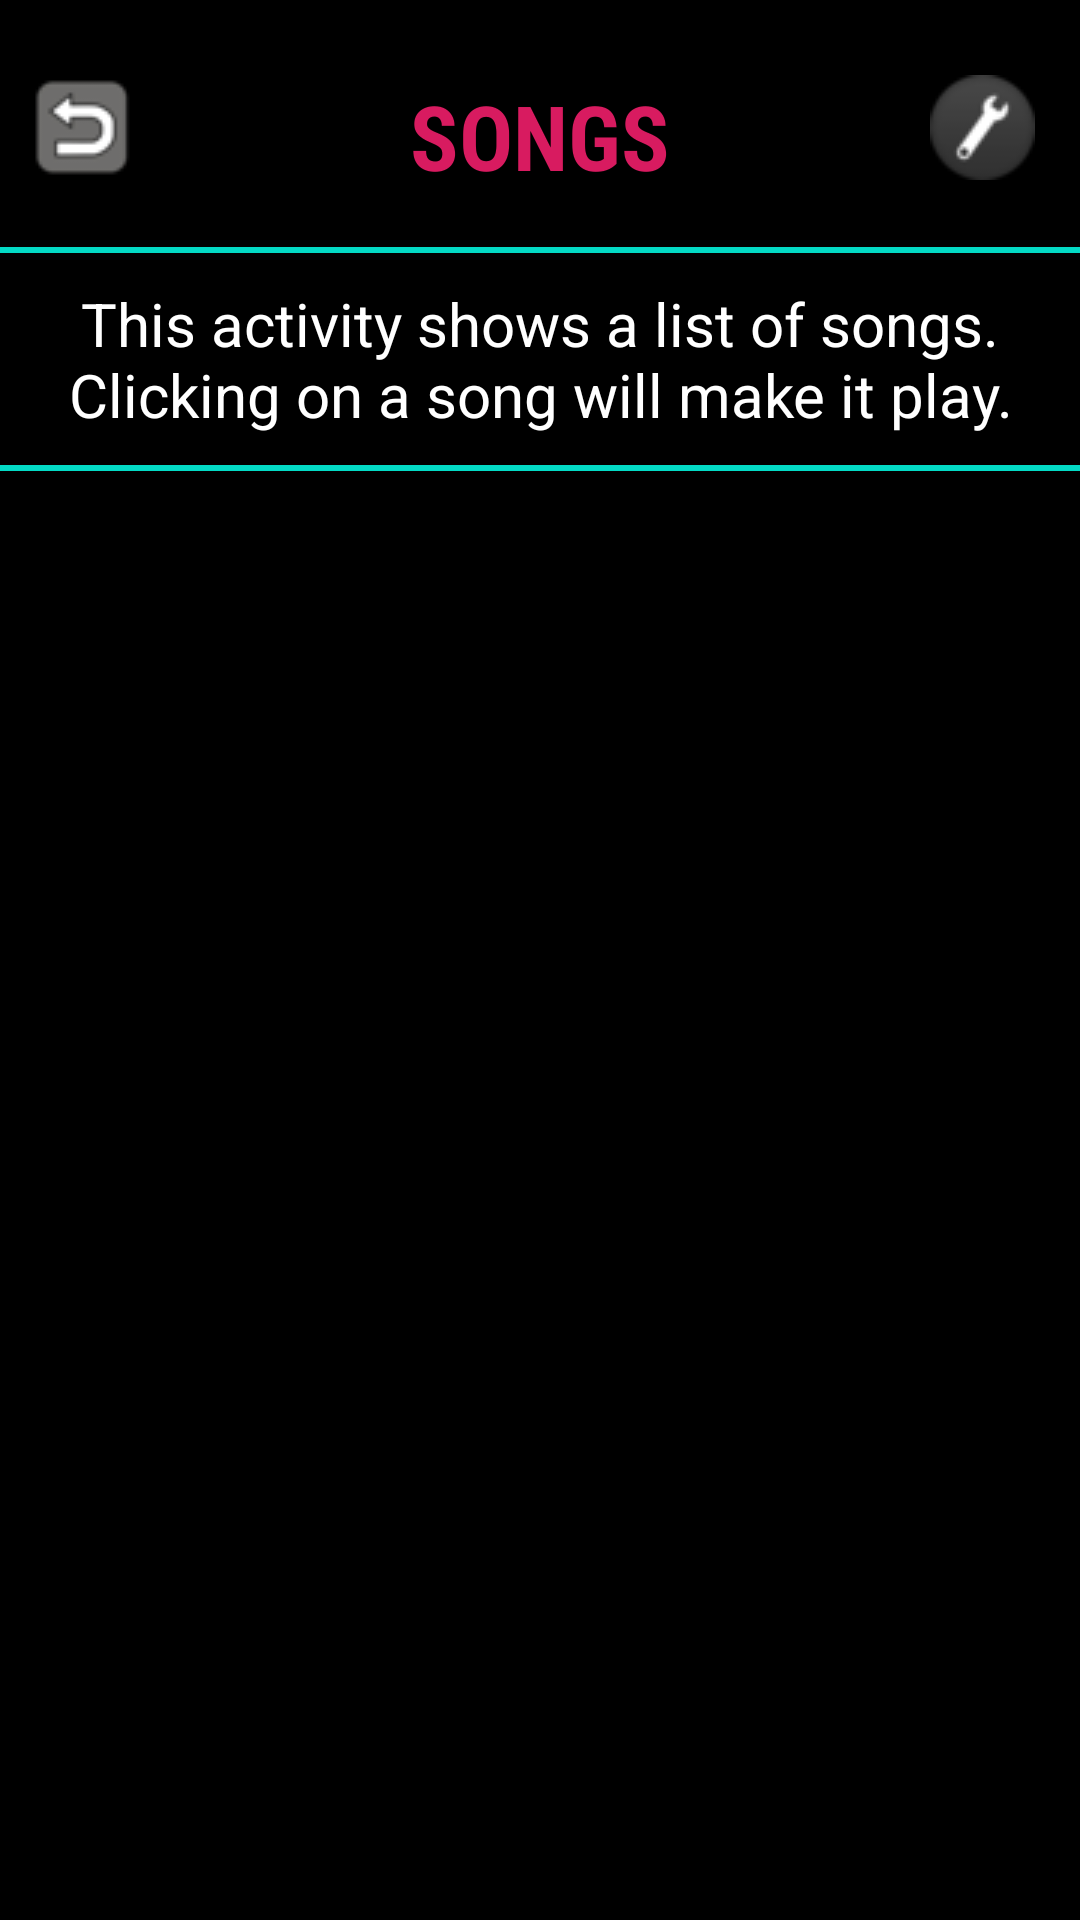

Screen size 1080w x 1920h. Icon name, then its box in pixels as (x1,y1,x2,y2):
Back Button: (36,81,127,174)
Settings: (930,75,1035,180)
